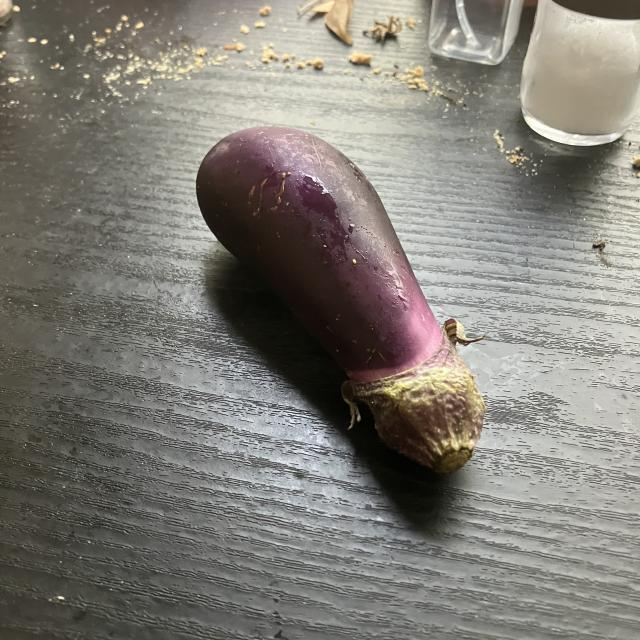eggplant: (194, 121, 486, 482)
